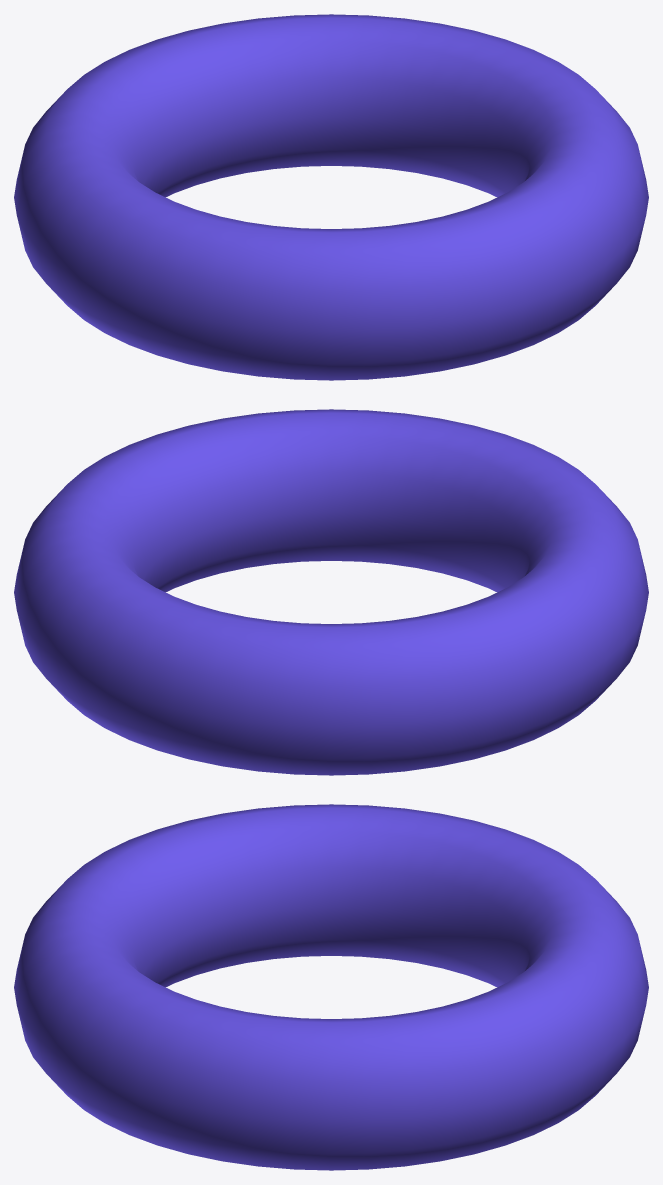
3 renders of one model, top to bottom at view 1: azimuth 30°, elevation 25°; view 2: azimuth 150°, elevation 25°; view 3: azimuth 270°, elevation 25°, orthographic.
Visible parts, largest first — view 1: Torus; view 2: Torus; view 3: Torus.
Boxes of the visible parts, x1,y1,x2,y2 form: Torus: (14,14,648,380); Torus: (14,409,648,775); Torus: (14,804,648,1170).
Bounding box in the file's own units: 2 × 0.5 × 2.
